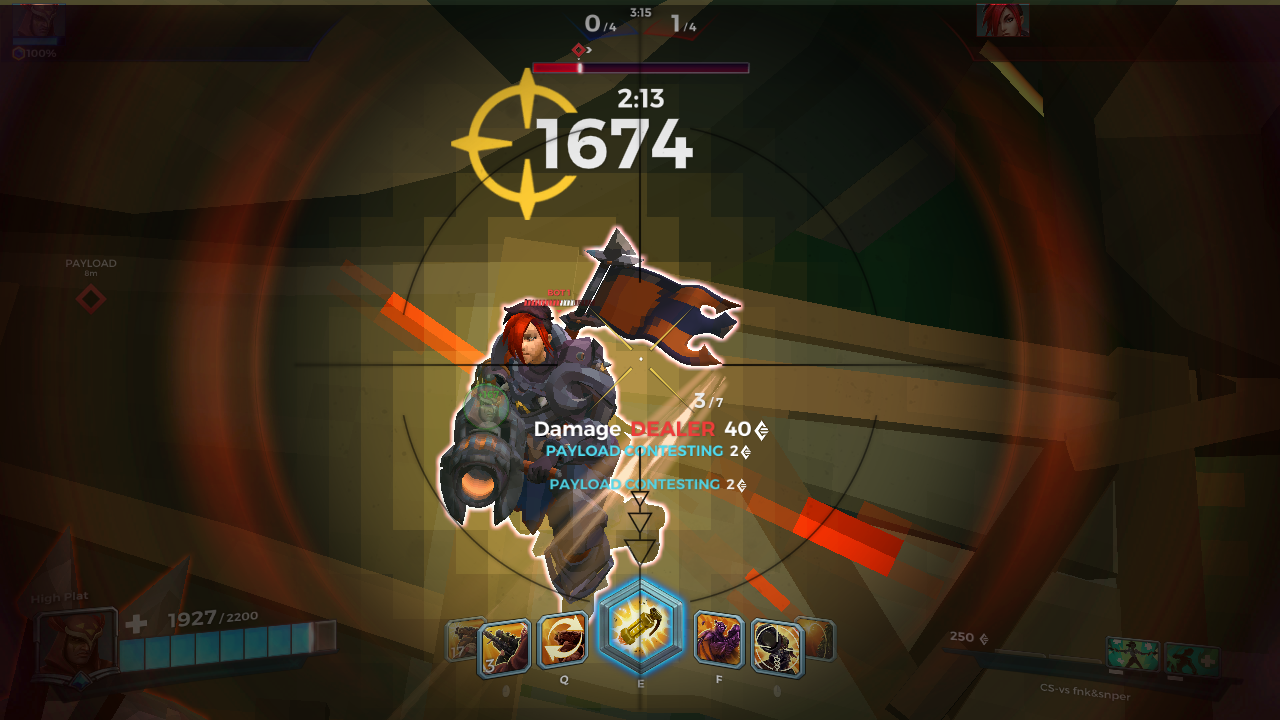model: (448, 219, 749, 579)
